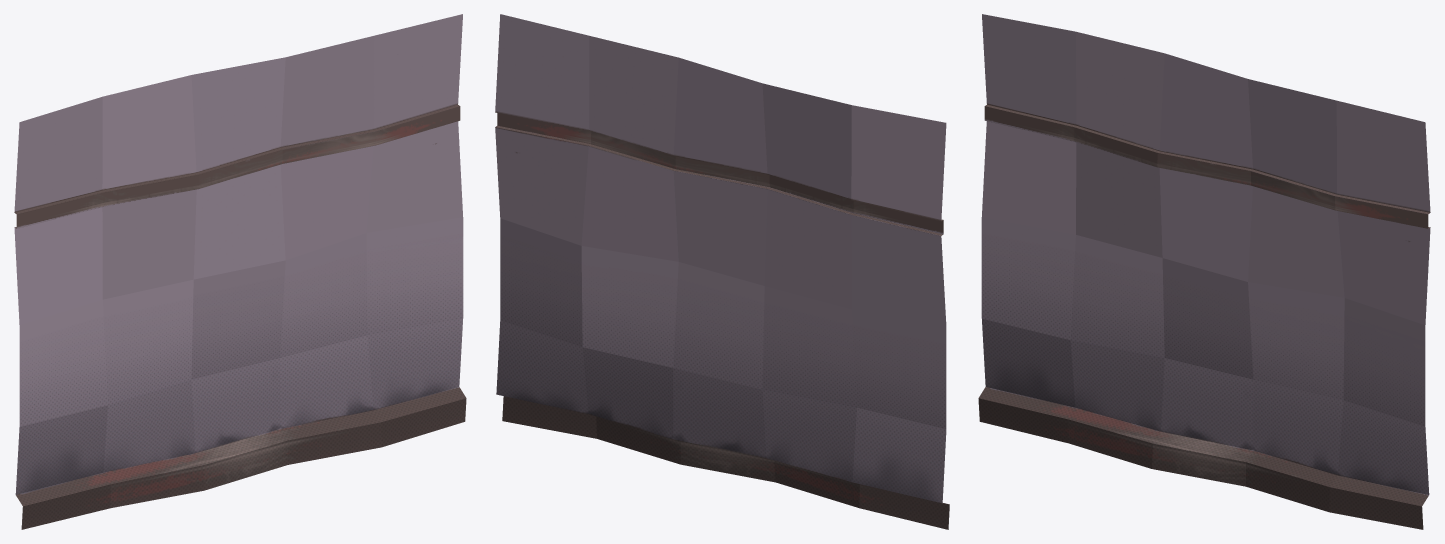
The model's file is Wall_3.5x4.obj.
3 renders of one model, left to right at view 1: azimuth 30°, elevation 25°; view 2: azimuth 150°, elevation 25°; view 3: azimuth 330°, elevation 25°, orthographic.
Parts seen in each view (by area): view 1: Wall_3.5x4m; view 2: Wall_3.5x4m; view 3: Wall_3.5x4m.
Part boxes in pixels (x1,y1,x2,y2): Wall_3.5x4m: (14,14,466,529); Wall_3.5x4m: (495,14,949,529); Wall_3.5x4m: (978,14,1430,529).
Size of the model in its own units: 4 by 3.5 by 0.2401.
1 material, 1 textured.
